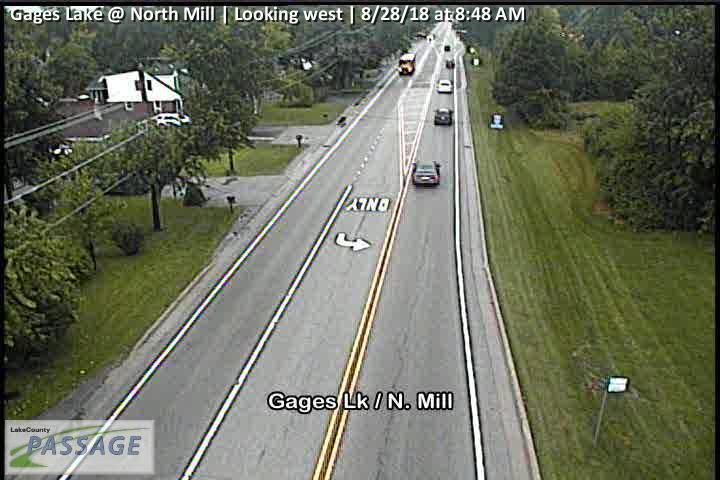Bus: (398, 50, 416, 76)
Sedan: (412, 161, 440, 186), (433, 109, 453, 124), (437, 80, 452, 92), (446, 59, 454, 68), (415, 31, 425, 37), (445, 45, 450, 51)
